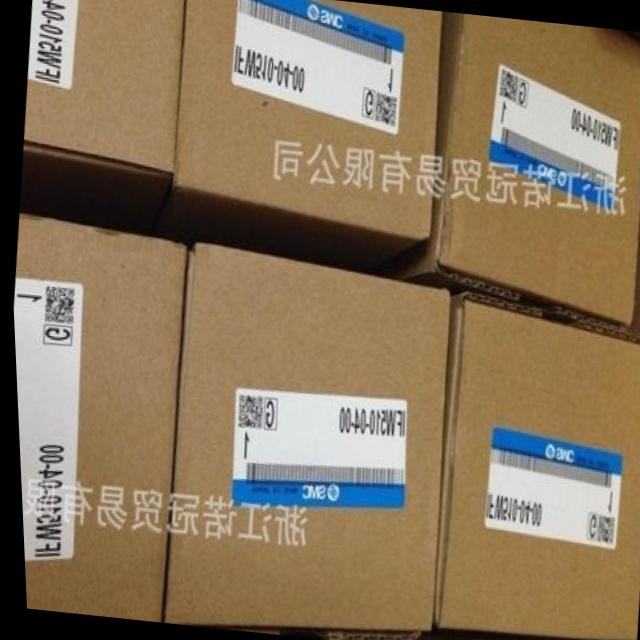box: (157, 241, 447, 640), (388, 12, 640, 332), (427, 289, 640, 640), (11, 211, 185, 620), (168, 0, 442, 240), (23, 0, 184, 178)
